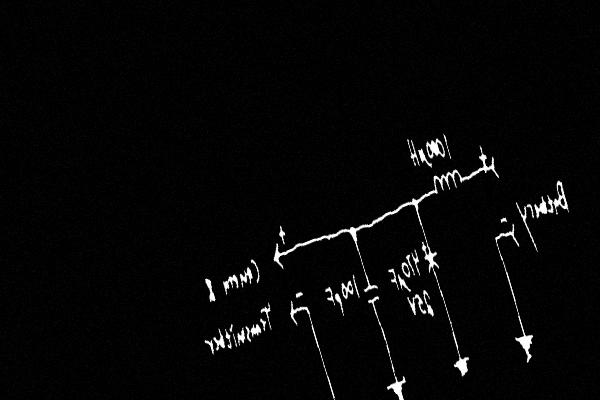capacitor: (360, 272, 387, 317), (420, 243, 445, 280)
ground: (510, 318, 543, 369), (380, 361, 417, 400), (448, 343, 475, 382), (323, 390, 357, 400)
inductor: (425, 161, 467, 200)
